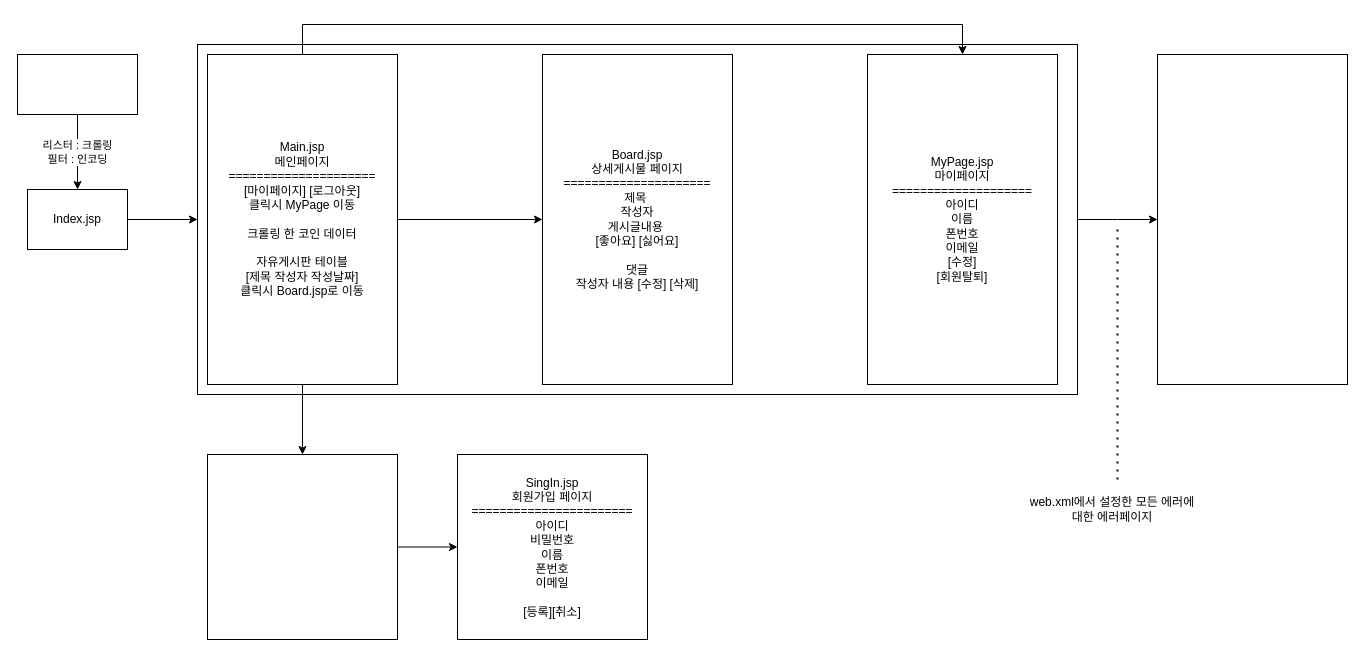
The diagram is 1365 pixels wide and 657 high, and some of its shapes have lost their labels. Here are the shapes that lost their labels. From the top down, the box of each, then its label:
(16, 54, 138, 114): 서버
(1156, 54, 1348, 384): error.jsp 에러페이지
(206, 454, 398, 640): Login.jsp 로그인페이지 ===================== 아이디 입력 비밀번호 입력 [회원가입] 비회원시, 회원가입 창 이동
